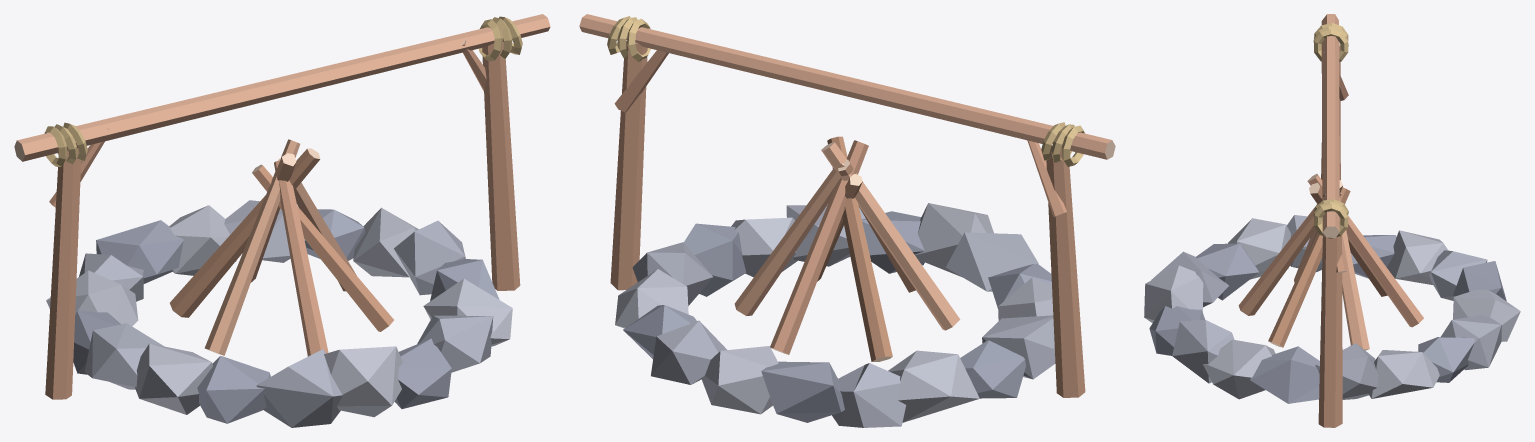
File: campfire_staged.glb
3 renders of one model, left to right at view 1: azimuth 30°, elevation 25°; view 2: azimuth 150°, elevation 25°; view 3: azimuth 270°, elevation 25°, orthographic. The views are drawn at different scales.
Parts seen in each view (by area): view 1: spit_bar, spit_post_R, spit_post_L, ring_stone12, ring_stone13, ring_stone10, stick_t3, ring_stone11, stick_t2, ring_stone5, stick_t4, ring_stone9 (+15 smaller); view 2: spit_bar, spit_post_L, spit_post_R, ring_stone7, ring_stone5, stick_t1, ring_stone4, stick_t3, ring_stone6, stick_t2, ring_stone12, ring_stone3 (+18 smaller); view 3: spit_post_R, spit_bar, ring_stone17, ring_stone16, ring_stone1, ring_stone15, ring_stone13, ring_stone7, stick_t1, stick_t4, ring_stone10, stick_t5 (+15 smaller).
Part boxes in pixels (x1=…): spit_bar: x1=14, y1=14, x2=550, y2=161; spit_post_R: x1=482, y1=42, x2=520, y2=290; spit_post_L: x1=45, y1=148, x2=81, y2=399; ring_stone12: x1=256, y1=349, x2=342, y2=427; ring_stone13: x1=324, y1=346, x2=402, y2=417; ring_stone10: x1=135, y1=343, x2=212, y2=414; stick_t3: x1=204, y1=139, x2=300, y2=355; ring_stone11: x1=197, y1=356, x2=270, y2=423; stick_t2: x1=170, y1=148, x2=320, y2=317; ring_stone5: x1=96, y1=220, x2=183, y2=283; stick_t4: x1=274, y1=160, x2=328, y2=356; ring_stone9: x1=84, y1=323, x2=163, y2=389; spit_bar: x1=579, y1=14, x2=1115, y2=159; spit_post_L: x1=1046, y1=144, x2=1085, y2=397; spit_post_R: x1=610, y1=40, x2=647, y2=290; ring_stone7: x1=888, y1=350, x2=979, y2=422; ring_stone5: x1=761, y1=361, x2=844, y2=422; stick_t1: x1=770, y1=140, x2=868, y2=354; ring_stone4: x1=701, y1=346, x2=778, y2=414; stick_t3: x1=821, y1=142, x2=960, y2=330; ring_stone6: x1=832, y1=363, x2=906, y2=427; stick_t2: x1=827, y1=136, x2=892, y2=361; ring_stone12: x1=945, y1=232, x2=1038, y2=291; ring_stone3: x1=651, y1=320, x2=726, y2=384; spit_post_R: x1=1318, y1=217, x2=1342, y2=427; spit_bar: x1=1321, y1=14, x2=1339, y2=238; ring_stone17: x1=1250, y1=346, x2=1319, y2=403; ring_stone16: x1=1203, y1=339, x2=1275, y2=399; ring_stone1: x1=1368, y1=350, x2=1439, y2=398; ring_stone15: x1=1172, y1=320, x2=1234, y2=383; ring_stone13: x1=1144, y1=265, x2=1203, y2=322; ring_stone7: x1=1387, y1=230, x2=1448, y2=284; stick_t1: x1=1307, y1=174, x2=1423, y2=327; stick_t4: x1=1238, y1=192, x2=1341, y2=315; ring_stone10: x1=1228, y1=218, x2=1290, y2=279; stick_t5: x1=1268, y1=187, x2=1350, y2=347.
Bounding box in the file's own units: 1.5 × 0.7431 × 1.13.
